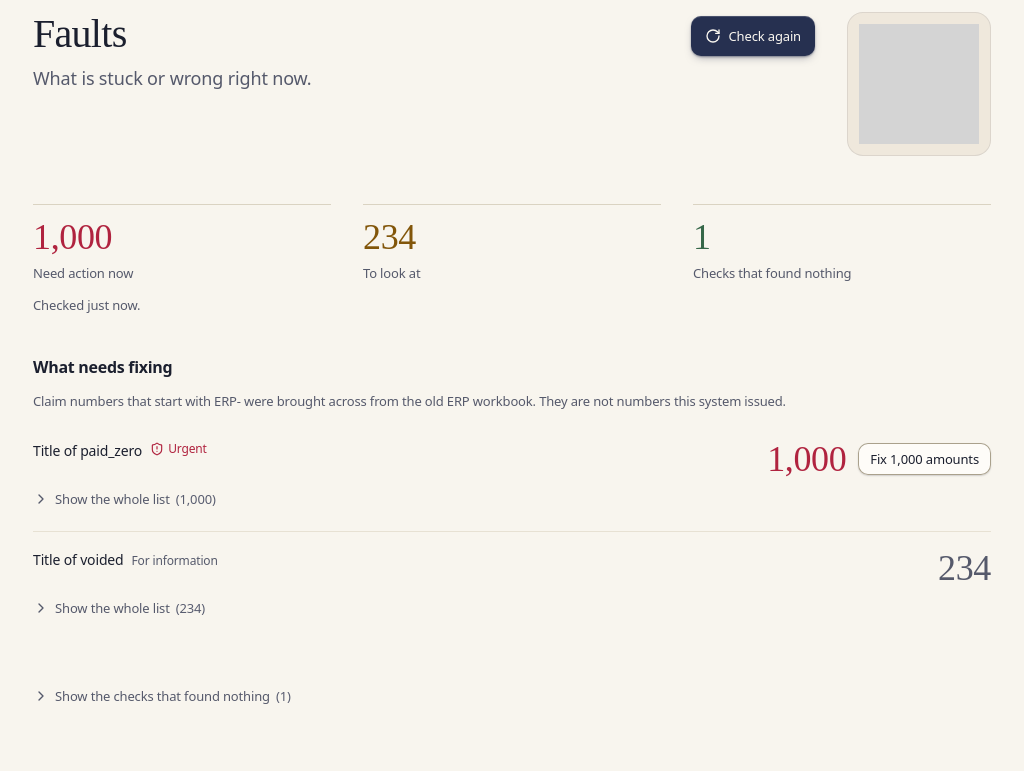
Test: Faults › lists every claim behind a count, not a sample
Click the button "Show the whole list (1,000)" at point(124, 499), box [25,483,224,515]
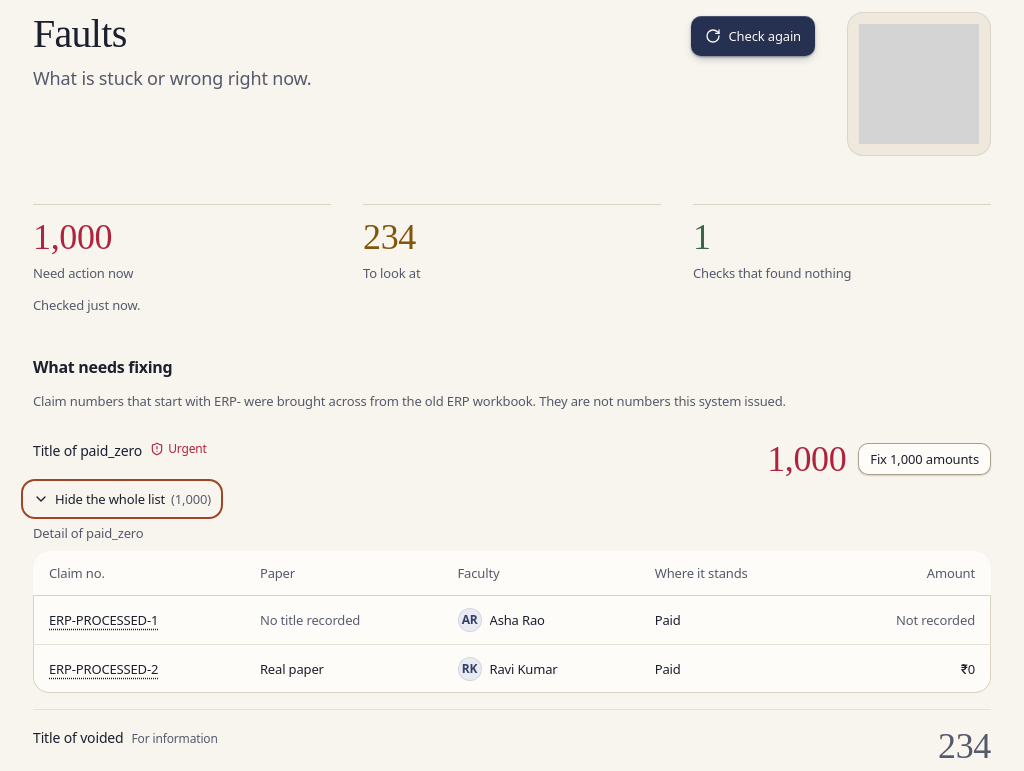
Check: the text "Asha Rao" is shown, box [490,610,545,630]
Check: the text "Not recorded" is shown, box [896,611,975,629]
